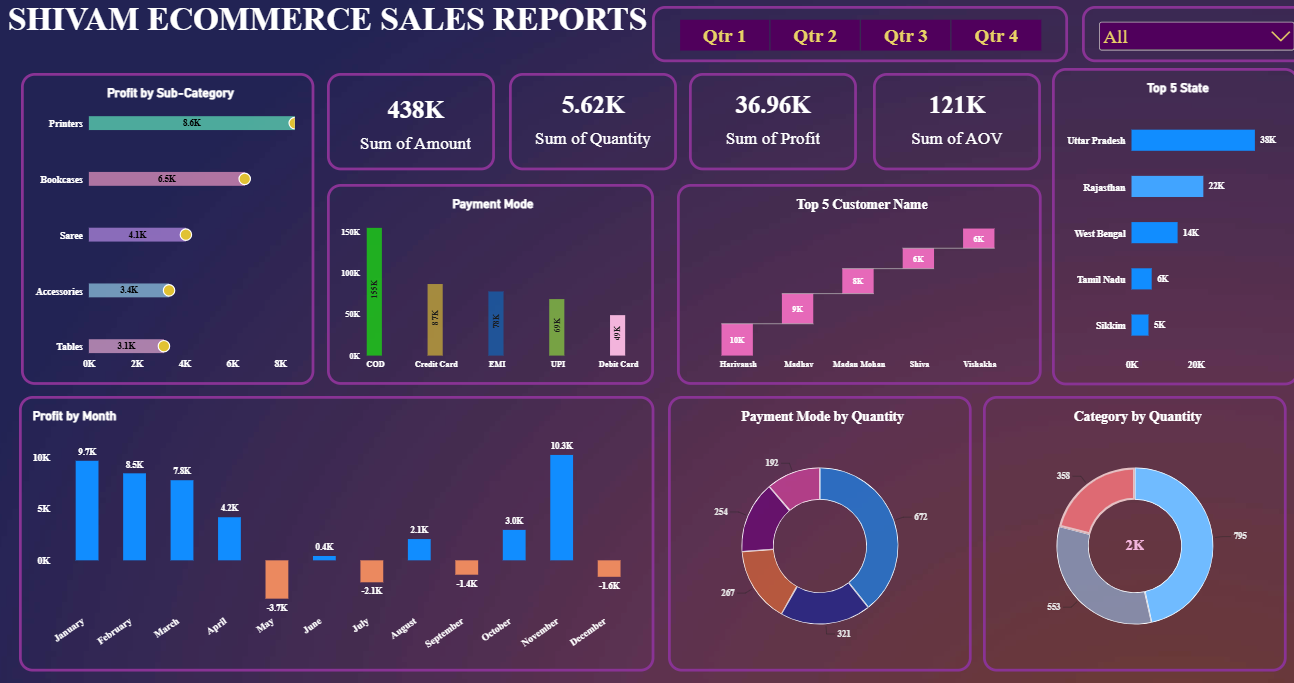

The page's visual inventory and layout, read from the dashboard file:
{"tool":"powerbi","page":{"name":"Page 1","canvas":[1920,1080],"ordinal":0},"visuals":[{"type":"columnChart","title":"Profit by Month","fields":{"Category":["Orders.Order Date.Variation.Date Hierarchy.Month"],"Y":["Sum(Details.Profit)"]},"box":[33.3,615,926.7,401.7],"z":0},{"type":"textbox","box":[10,38.3,930,98.3],"z":1000},{"type":"donutChart","title":"Payment Mode by Quantity","fields":{"Category":["Details.PaymentMode"],"Y":["Sum(Details.Quantity)"]},"box":[980,615,443.3,401.7],"z":2000},{"type":"barChart","title":"Profit by Sub-Category","fields":{"Category":["Details.Sub-Category"],"Y":["Sum(Details.Profit)"]},"box":[36.7,145,428.3,455],"z":3000},{"type":"donutChart","title":"Category by Quantity","fields":{"Category":["Details.Category"],"Y":["Sum(Details.Quantity)"]},"box":[1440,615,443.3,401.7],"z":4000},{"type":"cardVisual","fields":{"Data":["Sum(Details.Amount)"]},"box":[483.3,145,245,141.7],"z":5000},{"type":"cardVisual","fields":{"Data":["Sum(Details.Profit)"]},"box":[1011.7,145,245,141.7],"z":6000},{"type":"cardVisual","fields":{"Data":["Sum(Details.AOV)"]},"box":[1280,145,245,141.7],"z":7000},{"type":"cardVisual","fields":{"Data":["Sum(Details.Quantity)"]},"box":[748.3,145,245,141.7],"z":8000},{"type":"barChart","title":"Top 5 State","fields":{"Category":["Orders.State"],"Y":["Sum(Details.Amount)"]},"box":[1540,136.7,360,463.3],"z":9000},{"type":"lineStackedColumnComboChart","title":"Payment Mode","fields":{"Category":["Details.PaymentMode"],"Y":["Sum(Details.Amount)"]},"box":[483.3,306.7,476.7,293.3],"z":10000},{"type":"waterfallChart","title":"Top 5 Customer Name","fields":{"Category":["Orders.CustomerName"],"Y":["Sum(Details.Amount)"]},"box":[993.3,306.7,531.7,293.3],"z":11000},{"type":"slicer","fields":{"Values":["Orders.Order Date.Variation.Date Hierarchy.Quarter"]},"box":[956.7,46.7,606.7,81.7],"z":12000},{"type":"slicer","fields":{"Values":["Orders.State"]},"box":[1585,46.7,335,81.7],"z":13000}]}

Visuals, with their boxes on the page's 1920x1080 design canvas (x1, y1, x2, y2). These are canvas units, not pixel positions in the 1294x683 screenshot, which may show the page scaled, cropped or inside an application window:
"Profit by Month" columnChart: bbox(33, 615, 960, 1017)
textbox: bbox(10, 38, 940, 137)
"Payment Mode by Quantity" donutChart: bbox(980, 615, 1423, 1017)
"Profit by Sub-Category" barChart: bbox(37, 145, 465, 600)
"Category by Quantity" donutChart: bbox(1440, 615, 1883, 1017)
cardVisual - Sum(Details.Amount): bbox(483, 145, 728, 287)
cardVisual - Sum(Details.Profit): bbox(1012, 145, 1257, 287)
cardVisual - Sum(Details.AOV): bbox(1280, 145, 1525, 287)
cardVisual - Sum(Details.Quantity): bbox(748, 145, 993, 287)
"Top 5 State" barChart: bbox(1540, 137, 1900, 600)
"Payment Mode" lineStackedColumnComboChart: bbox(483, 307, 960, 600)
"Top 5 Customer Name" waterfallChart: bbox(993, 307, 1525, 600)
slicer - Orders.Order Date.Variation.Date Hierarchy.Quarter: bbox(957, 47, 1563, 128)
slicer - Orders.State: bbox(1585, 47, 1920, 128)
